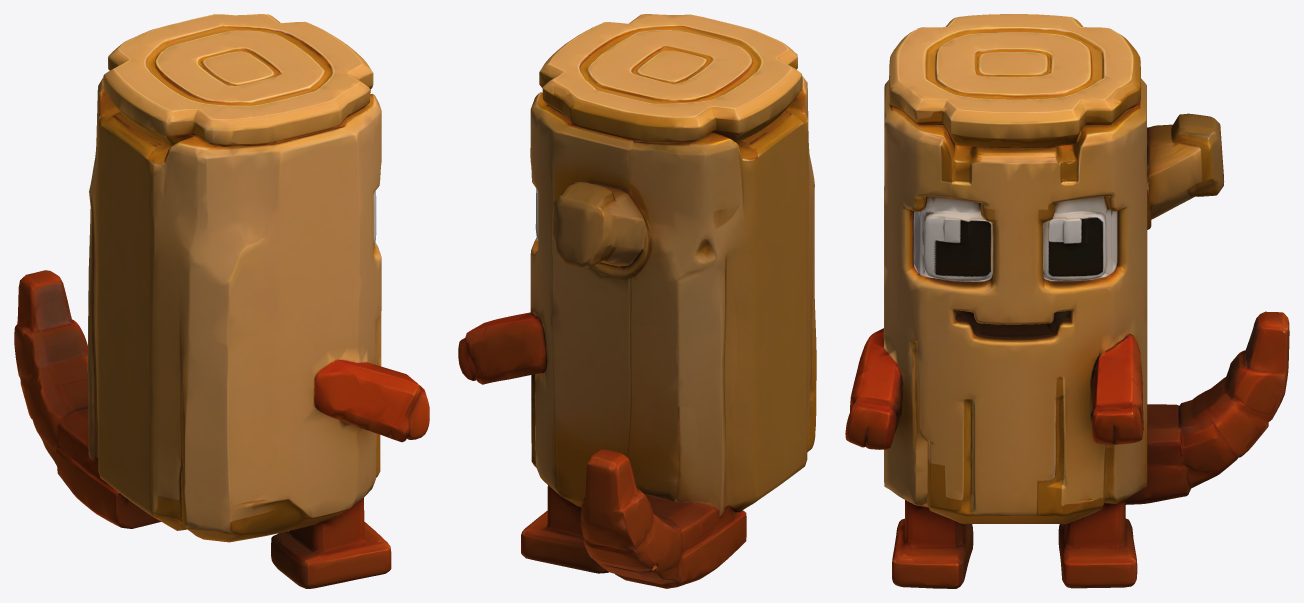
Rendered from 004-block-toy-tripo-v25-standard-15k.glb.
3 renders of one model, left to right at view 1: azimuth 30°, elevation 25°; view 2: azimuth 150°, elevation 25°; view 3: azimuth 270°, elevation 25°, orthographic. The views are drawn at different scales.
Parts seen in each view (by area): view 1: tripo_node_86162c09-f19c-4bac-b3f2-3e84781fed73; view 2: tripo_node_86162c09-f19c-4bac-b3f2-3e84781fed73; view 3: tripo_node_86162c09-f19c-4bac-b3f2-3e84781fed73.
Part boxes in pixels (x1,y1,x2,y2): tripo_node_86162c09-f19c-4bac-b3f2-3e84781fed73: (14, 14, 429, 588); tripo_node_86162c09-f19c-4bac-b3f2-3e84781fed73: (458, 14, 816, 588); tripo_node_86162c09-f19c-4bac-b3f2-3e84781fed73: (845, 14, 1289, 588).
Bounding box in the file's own units: 0.5847 × 0.9999 × 0.8358.
1 material, 1 textured.
